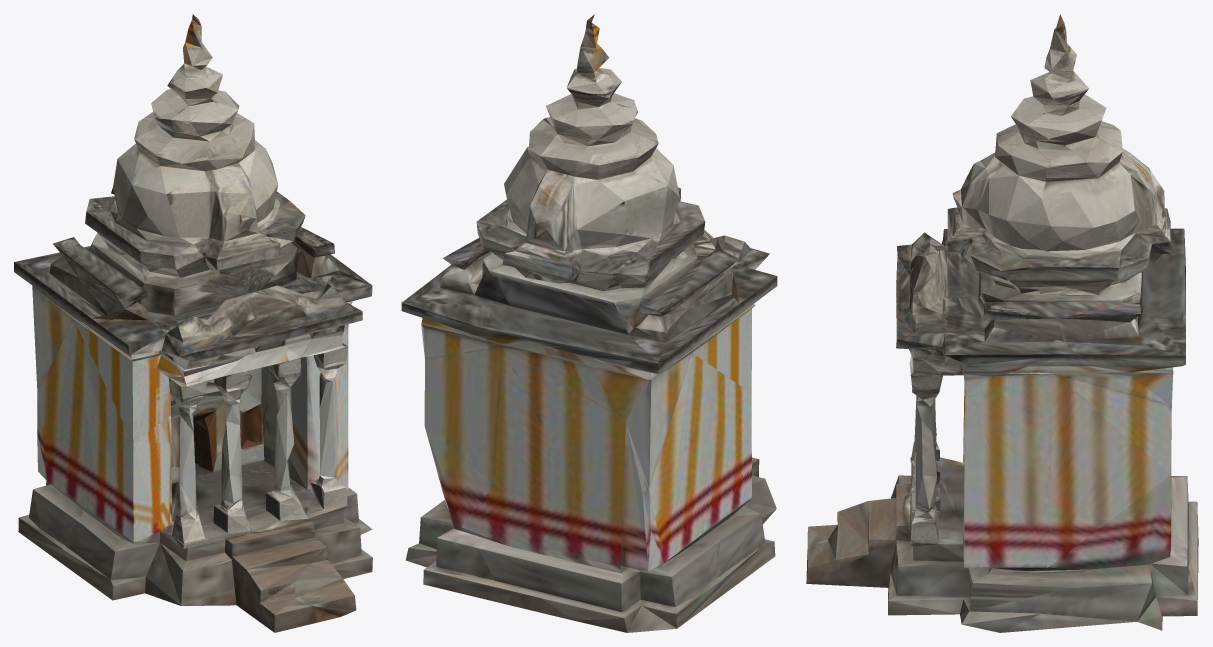
The model's file is indian_village_temple_low.glb.
3 renders of one model, left to right at view 1: azimuth 30°, elevation 25°; view 2: azimuth 150°, elevation 25°; view 3: azimuth 270°, elevation 25°, orthographic. The views are drawn at different scales.
Parts seen in each view (by area): view 1: m; view 2: m; view 3: m.
Part boxes in pixels (x1,y1,x2,y2): m: [14, 14, 372, 632]; m: [401, 14, 777, 632]; m: [806, 14, 1198, 632].
Bounding box in the file's own units: 3.64 × 7 × 4.51.
1 material, 1 textured.
